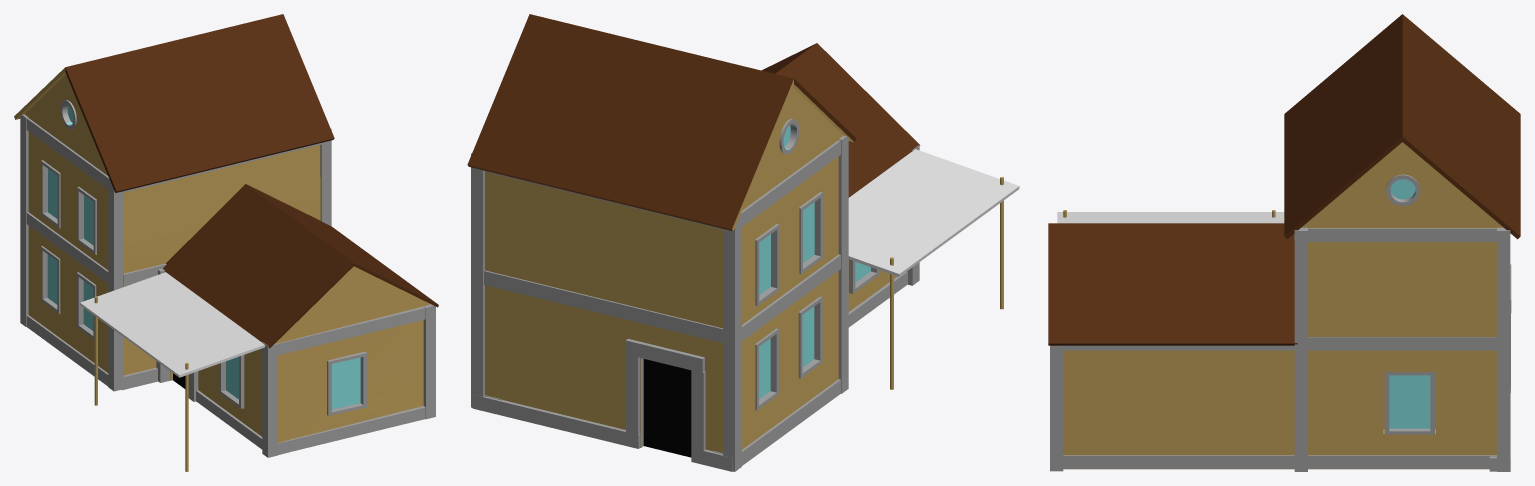
File: DoubleMaison.fbx
3 renders of one model, left to right at view 1: azimuth 30°, elevation 25°; view 2: azimuth 150°, elevation 25°; view 3: azimuth 270°, elevation 25°, orthographic. The views are drawn at different scales.
Parts seen in each view (by area): view 1: pCube61; view 2: pCube61; view 3: pCube61.
Part boxes in pixels (x1,y1,x2,y2): pCube61: (14,14,438,471); pCube61: (467,14,1019,471); pCube61: (1048,14,1520,471).
Size of the model in its own units: 13.27 by 14.43 by 18.42.
